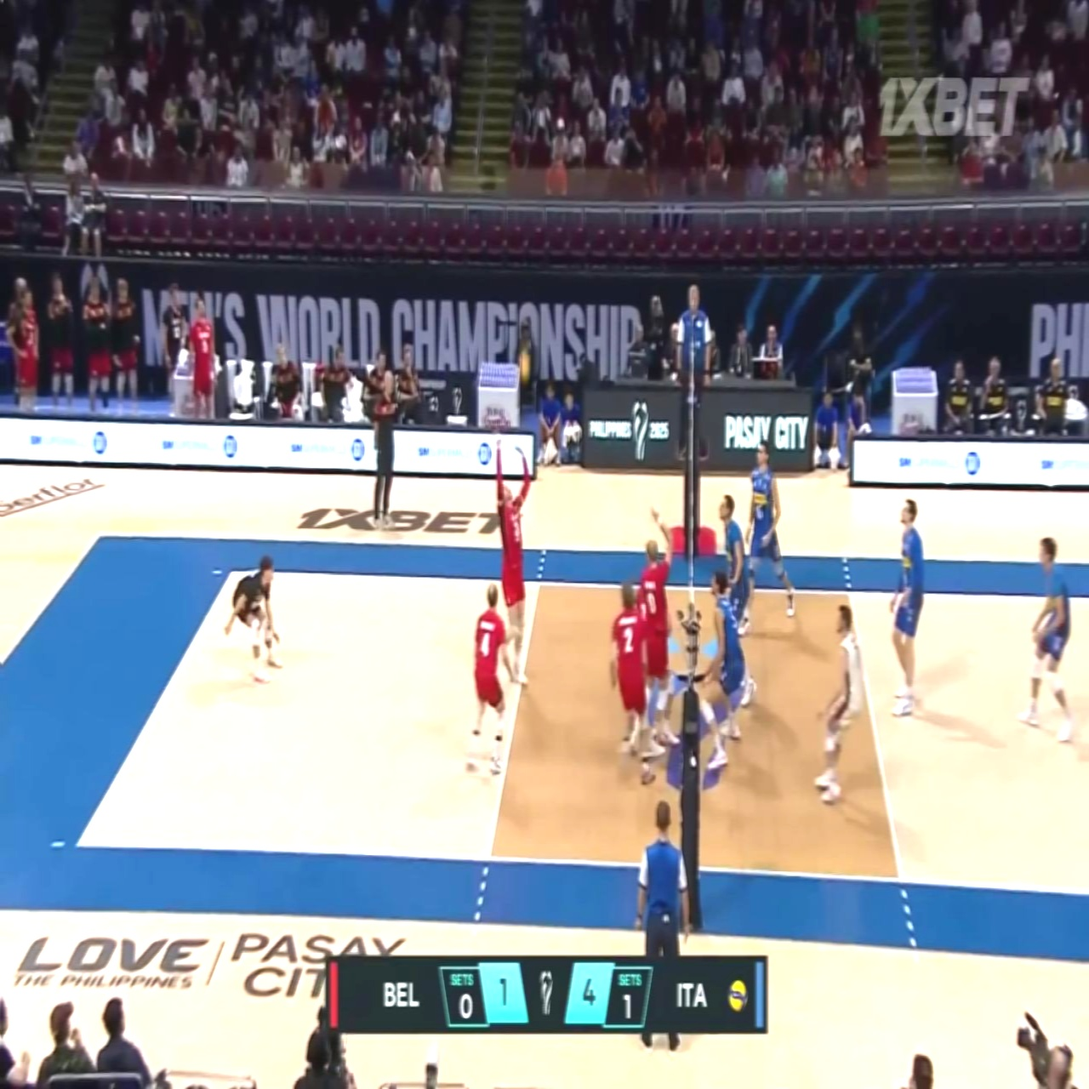ball: (517, 351, 529, 381)
